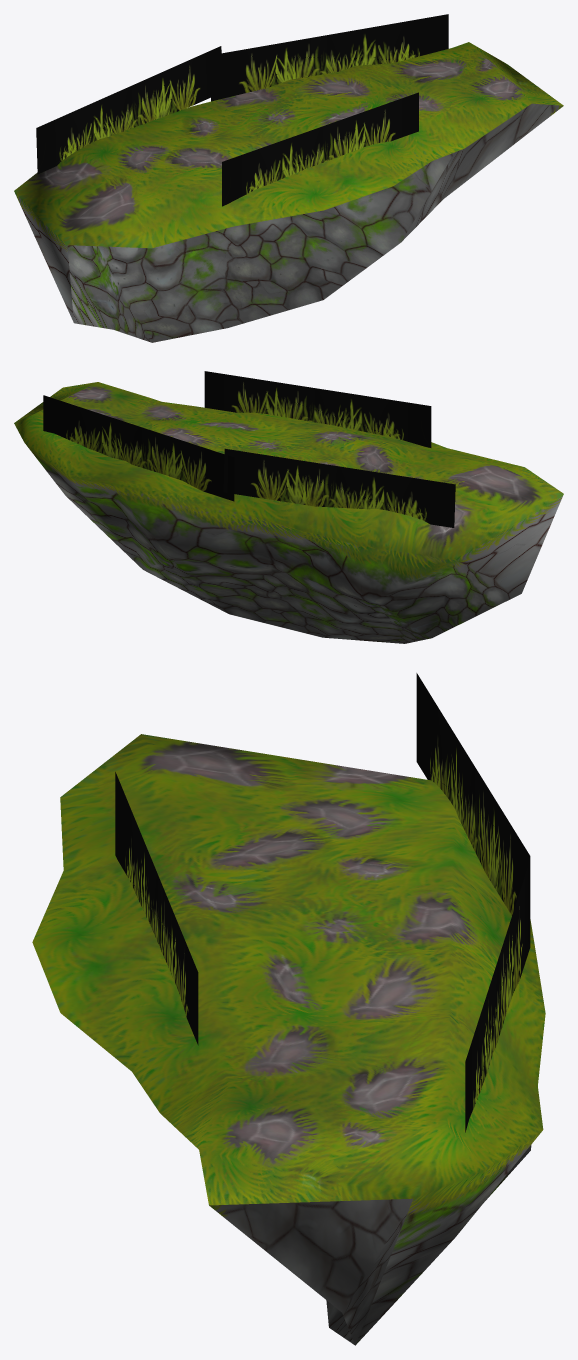
The model's file is platform rond.fbx.
The picture shows the model from 3 angles, top to bottom: view 1: azimuth 30°, elevation 25°; view 2: azimuth 150°, elevation 25°; view 3: azimuth 270°, elevation 25°; orthographic projection. The views are drawn at different scales.
Visible parts, largest first — view 1: Plane_2; view 2: Plane_2; view 3: Plane_2.
Boxes of the visible parts, x1,y1,x2,y2 form: Plane_2: [14, 14, 563, 342]; Plane_2: [14, 371, 563, 643]; Plane_2: [32, 673, 545, 1345].
Bounding box in the file's own units: 324 × 138 × 149.
Materials: 1 (1 with a texture image).
